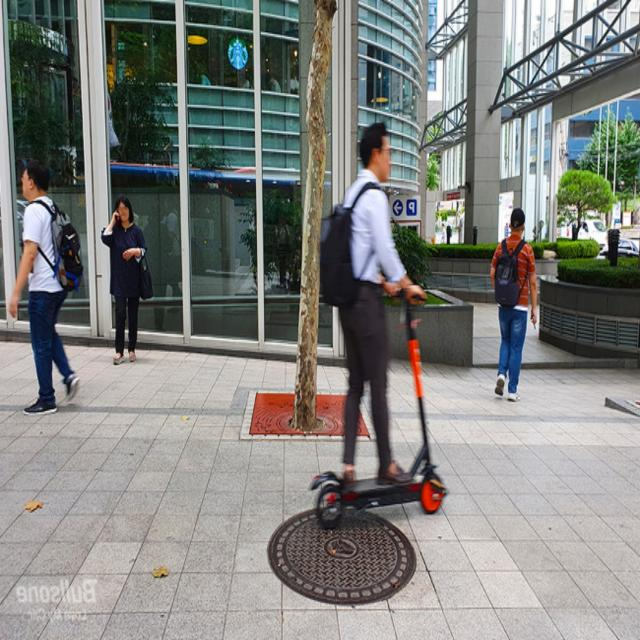bare_head: (343, 117, 408, 189)
human: (298, 108, 416, 473)
kickboard: (284, 456, 507, 521)
